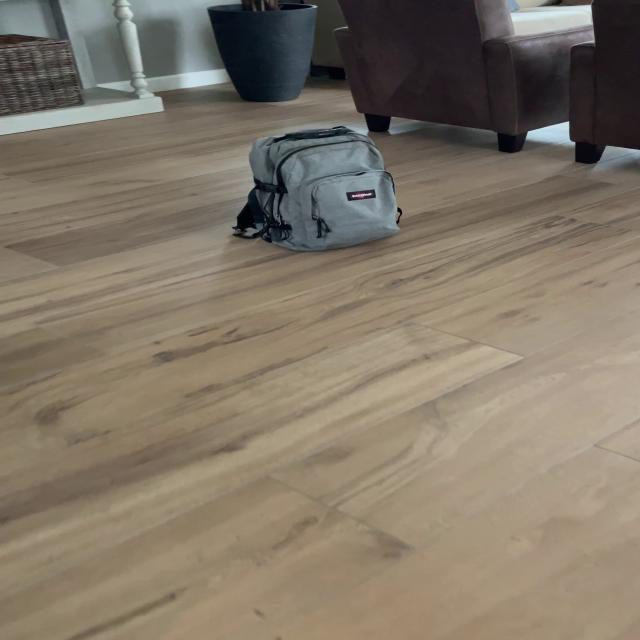backpack: (226, 120, 408, 258)
